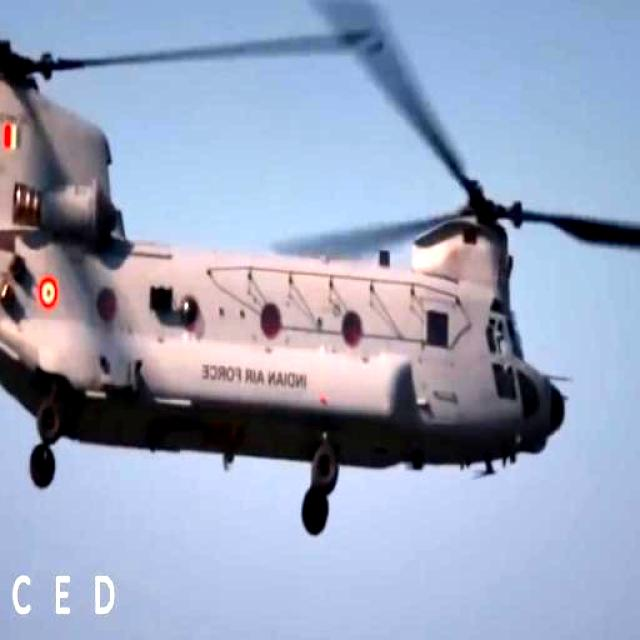drone: (0, 0, 640, 542)
